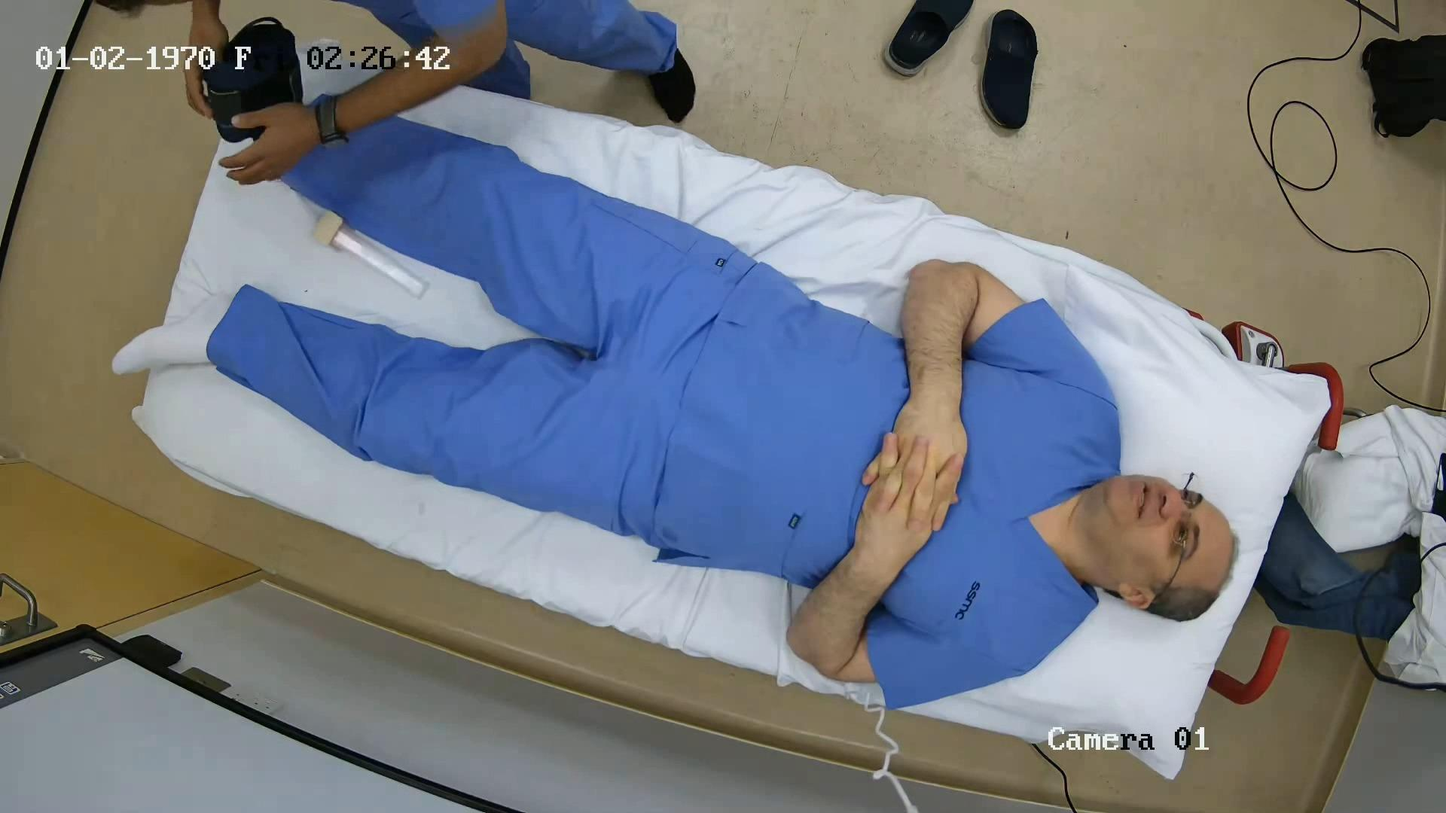bed: (133, 62, 1343, 783)
patient: (207, 121, 1234, 707)
prepstick: (315, 211, 427, 297)
